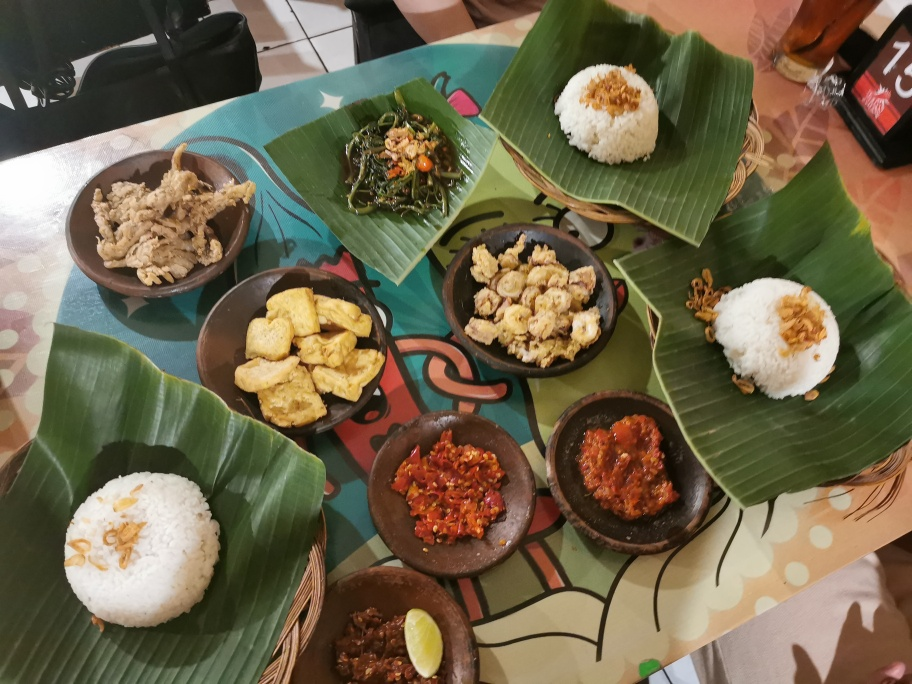nasi putih: (61, 469, 221, 632), (713, 278, 844, 408), (559, 59, 659, 164)
